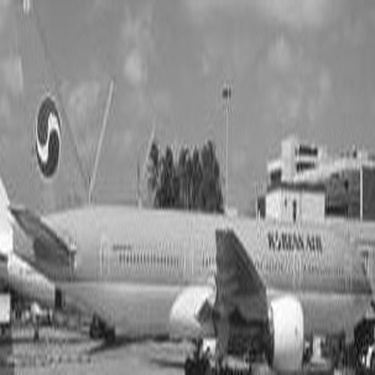airplane: (9, 9, 357, 359)
